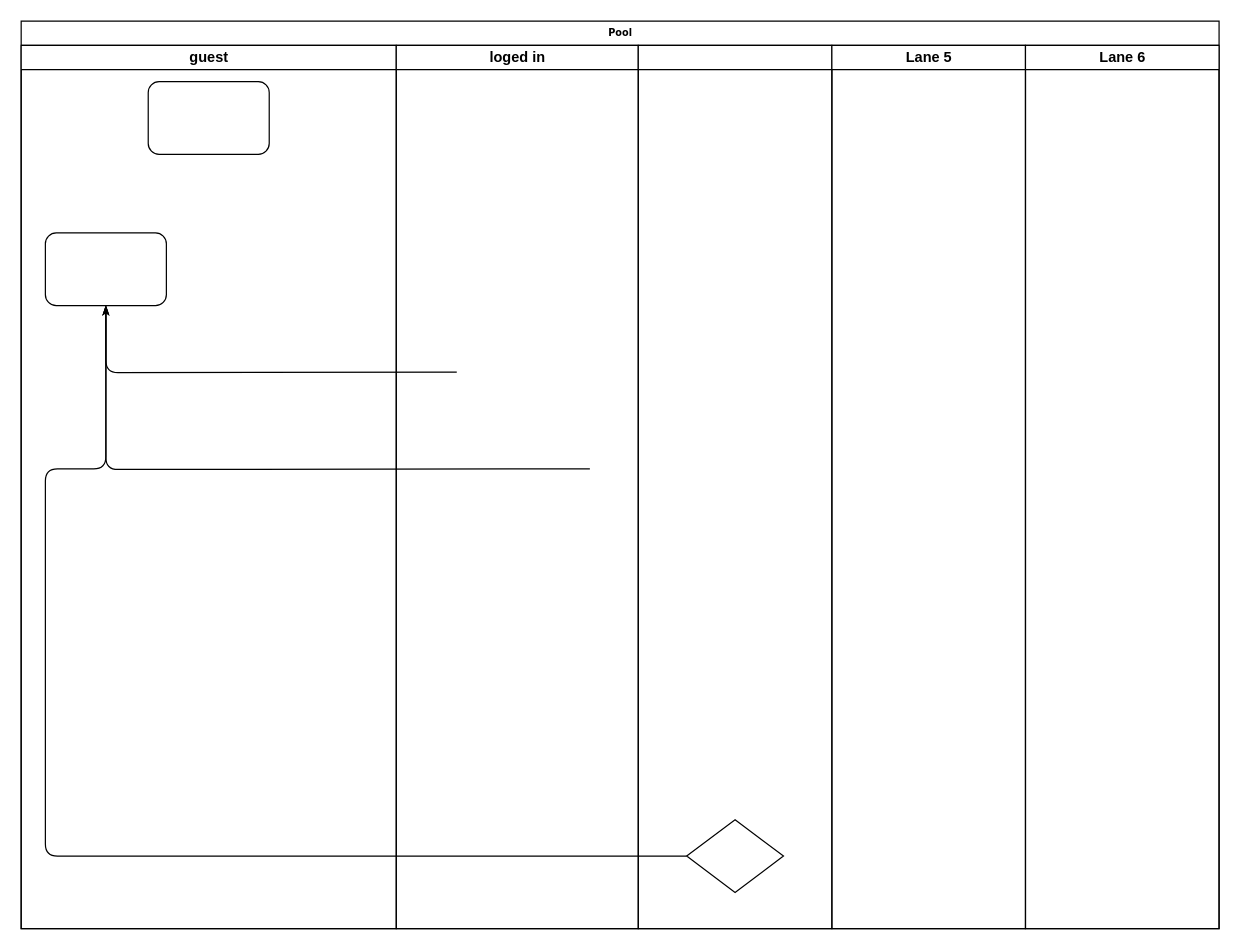
Image size: 1240x950. Some labels were removed from this diagram. The box of each missing label's shape, as (x1, y1, x2, y2) in pixels:
Lane 4: (637, 44, 832, 929)
new DA new PA: (147, 80, 269, 154)
